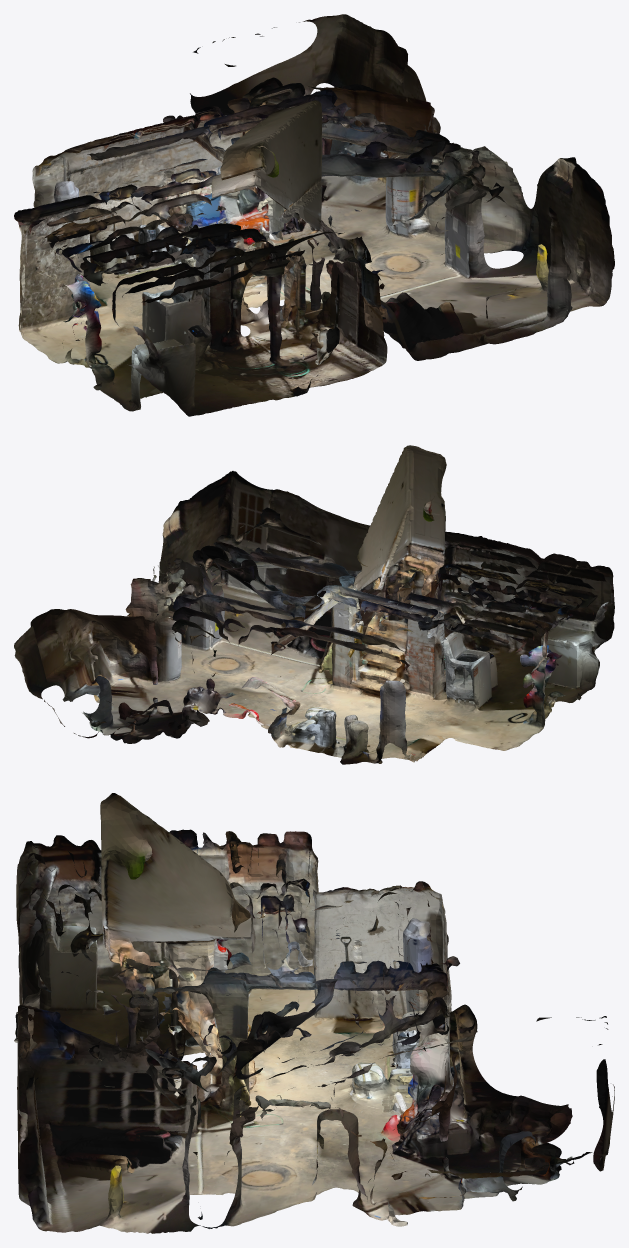
3 renders of one model, top to bottom at view 1: azimuth 30°, elevation 25°; view 2: azimuth 150°, elevation 25°; view 3: azimuth 270°, elevation 25°, orthographic. The views are drawn at different scales.
Bounding box in the file's own units: 8.62 × 4.3 × 8.07.
Materials: 5 (5 with a texture image).
